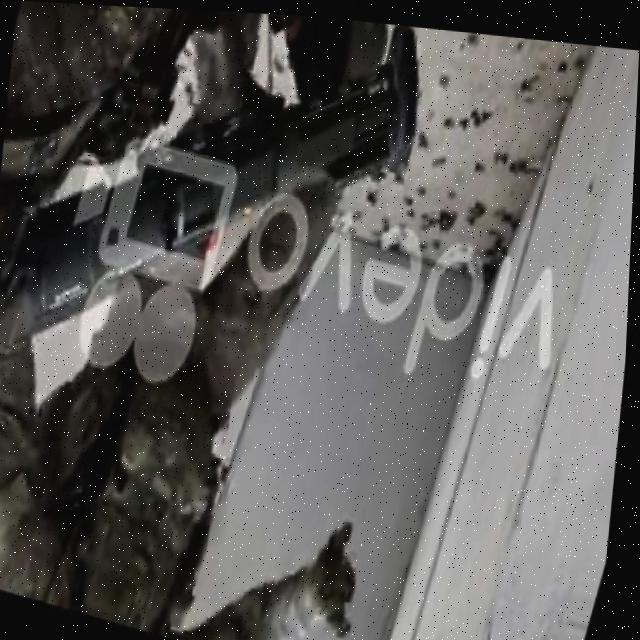rocket: (11, 1, 437, 431)
